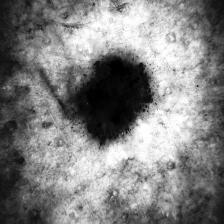Benign Marking or Mole: (76, 58, 153, 144)
